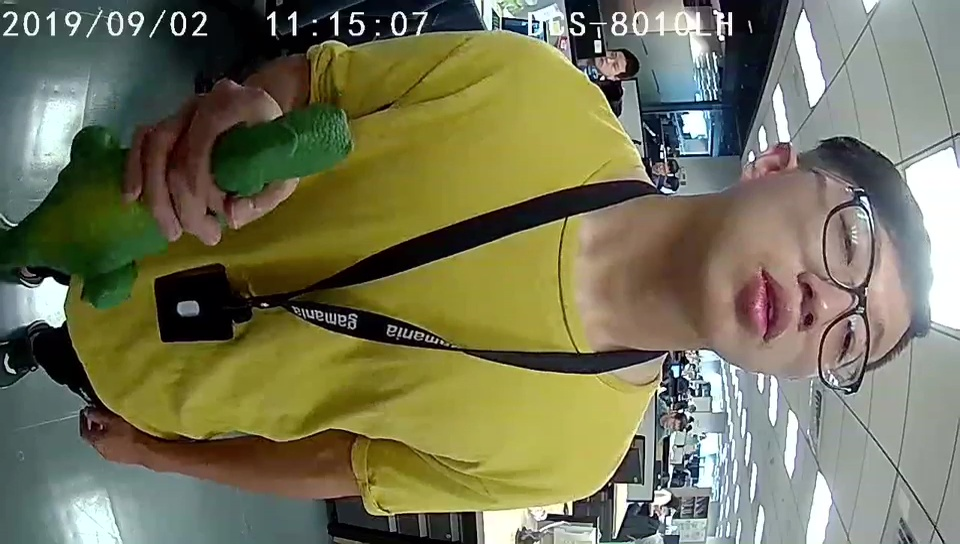rex: (70, 103, 355, 310)
